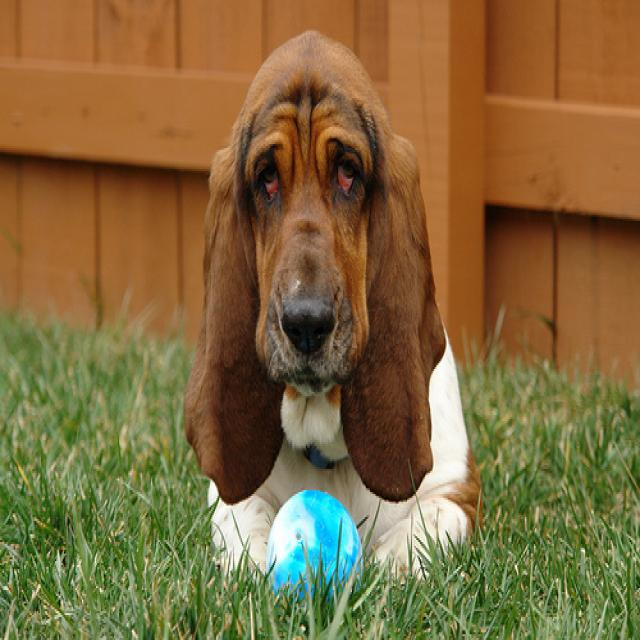dog-basset_hound: (180, 27, 490, 569)
